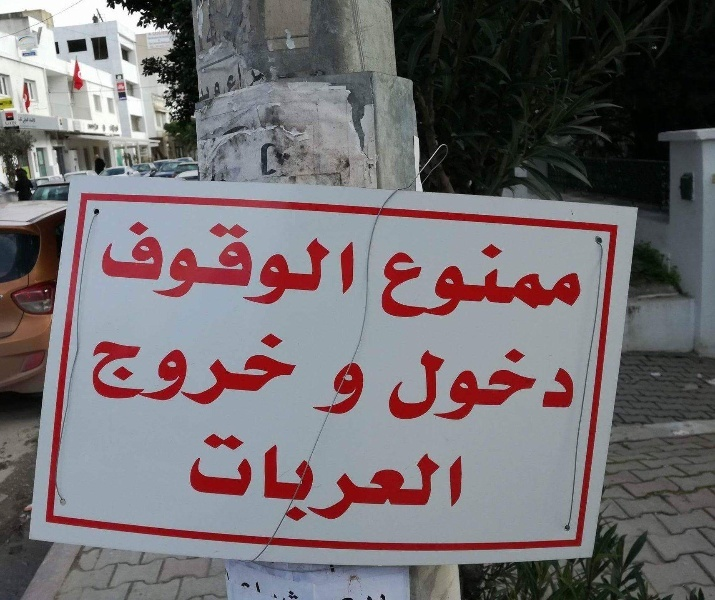text: (113, 216, 128, 312), (129, 216, 144, 312), (145, 216, 160, 312), (161, 216, 176, 312), (177, 216, 192, 312), (193, 216, 208, 312), (209, 216, 224, 312), (225, 216, 240, 312), (241, 216, 256, 312), (257, 216, 272, 312), (273, 216, 288, 312), (289, 216, 304, 312), (305, 216, 320, 312), (321, 216, 336, 312), (337, 216, 352, 312), (193, 431, 208, 526), (209, 431, 224, 526), (225, 431, 240, 526), (241, 431, 256, 526), (257, 431, 272, 526), (273, 431, 288, 526), (289, 431, 304, 526), (305, 431, 320, 526), (321, 431, 336, 526), (337, 431, 352, 526), (353, 431, 368, 526), (369, 431, 384, 526), (385, 431, 400, 526), (401, 431, 416, 526), (417, 431, 432, 526), (433, 431, 448, 526), (449, 431, 463, 526), (97, 328, 112, 415), (113, 328, 128, 415), (129, 328, 144, 415), (145, 328, 160, 415), (161, 328, 176, 415), (177, 328, 192, 415), (193, 328, 208, 415), (209, 328, 224, 415), (225, 328, 240, 415), (241, 328, 256, 415), (257, 328, 272, 415), (273, 328, 288, 415), (401, 240, 416, 324), (417, 240, 432, 324), (433, 240, 448, 324), (449, 240, 464, 324), (465, 240, 480, 324), (481, 240, 496, 324), (497, 240, 512, 324), (513, 240, 528, 324), (529, 240, 544, 324), (545, 240, 560, 324), (561, 240, 576, 324), (401, 346, 416, 422), (417, 346, 432, 422), (433, 346, 448, 422), (449, 346, 464, 422), (465, 346, 480, 422), (481, 346, 496, 422), (497, 346, 512, 422), (513, 346, 528, 422), (529, 346, 544, 422), (545, 346, 560, 422), (561, 346, 575, 422), (389, 240, 400, 324), (337, 360, 352, 418), (289, 328, 298, 415), (209, 52, 224, 103), (225, 52, 240, 103), (241, 52, 256, 103), (577, 240, 586, 324), (353, 360, 365, 418), (257, 52, 268, 103), (273, 140, 288, 177), (353, 216, 358, 312), (199, 52, 208, 103), (262, 140, 272, 177), (330, 360, 336, 418), (189, 431, 192, 526), (397, 346, 400, 422), (19, 116, 32, 125), (289, 140, 292, 177), (33, 116, 36, 125)
